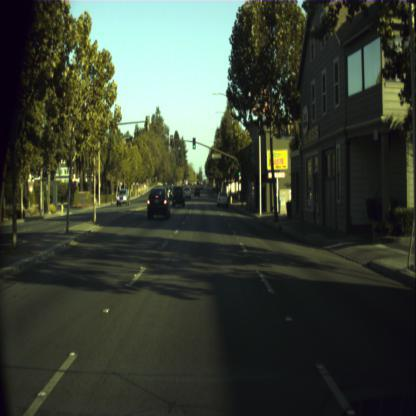Green: (192, 136, 196, 149), (237, 166, 240, 176)
Red: (170, 134, 172, 146)
